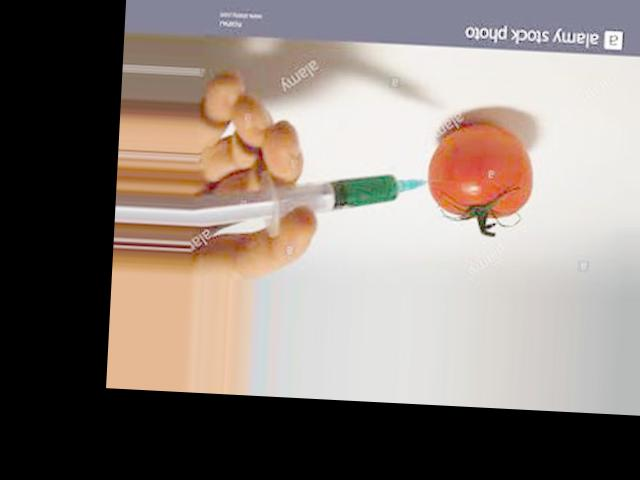tomato: (425, 122, 533, 219)
